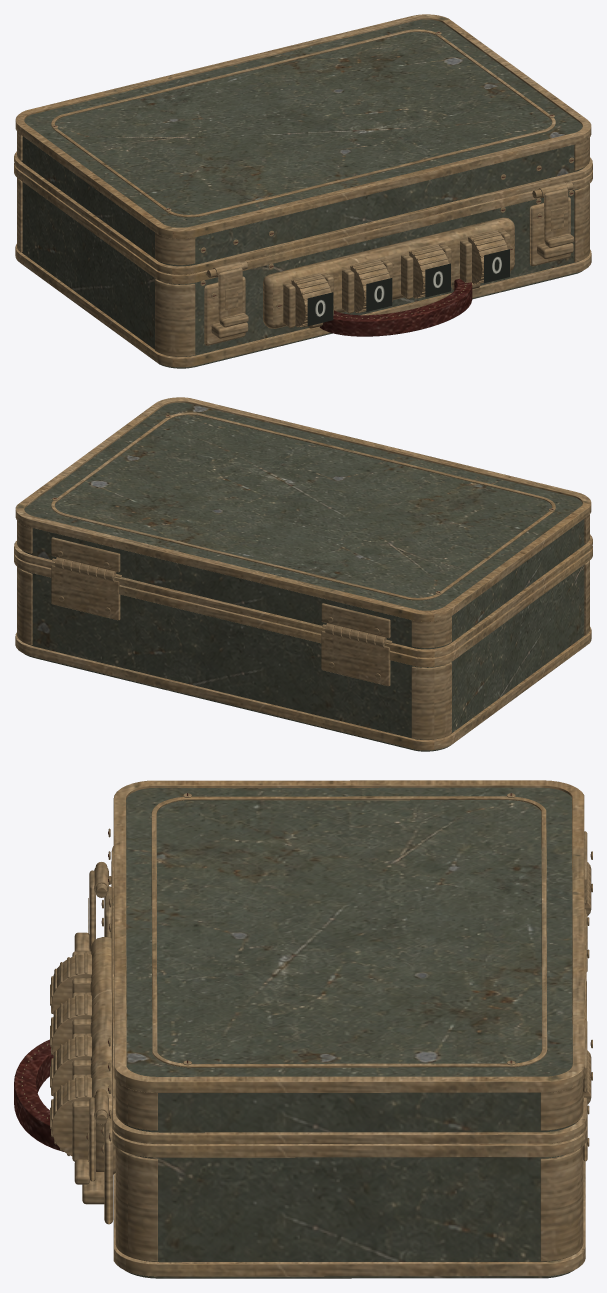
The model's file is briefcase.glb.
The picture shows the model from 3 angles, top to bottom: view 1: azimuth 30°, elevation 25°; view 2: azimuth 150°, elevation 25°; view 3: azimuth 270°, elevation 25°; orthographic projection. The views are drawn at different scales.
Visible parts, largest first — view 1: LidStatic, BodyStatic_Hardware, LidStatic_Hardware, BodyStatic, HandlePivot, LatchPivot_L, LatchPivot_R, Wheel_2, Wheel_0, Wheel_1, Wheel_3, NumberDisplay_0 (+3 smaller); view 2: LidStatic, BodyStatic, LidStatic_Hardware, BodyStatic_Hardware; view 3: LidStatic, BodyStatic, LidStatic_Hardware, BodyStatic_Hardware, HandlePivot, Wheel_3, Wheel_1, Wheel_2, Wheel_0, LatchPivot_R, LatchPivot_L.
Boxes of the visible parts, x1,y1,x2,y2 form: LidStatic: (21, 19, 584, 266); BodyStatic_Hardware: (14, 163, 592, 367); LidStatic_Hardware: (14, 14, 592, 274); BodyStatic: (22, 182, 582, 368); HandlePivot: (320, 278, 472, 336); LatchPivot_L: (213, 261, 248, 327); LatchPivot_R: (539, 182, 573, 247); Wheel_2: (409, 244, 451, 298); Wheel_0: (291, 273, 333, 327); Wheel_1: (350, 259, 390, 312); Wheel_3: (468, 230, 508, 284); NumberDisplay_0: (307, 292, 333, 326); LidStatic: (22, 402, 585, 649); BodyStatic: (24, 565, 584, 751); LidStatic_Hardware: (14, 397, 592, 657); BodyStatic_Hardware: (14, 546, 592, 750); LidStatic: (122, 787, 577, 1132); BodyStatic: (125, 1154, 573, 1278); LidStatic_Hardware: (108, 780, 592, 1143); BodyStatic_Hardware: (72, 861, 591, 1276); HandlePivot: (14, 1039, 63, 1151); Wheel_3: (50, 1076, 91, 1155); Wheel_1: (50, 994, 91, 1056); Wheel_2: (50, 1035, 91, 1097); Wheel_0: (50, 953, 91, 1015); LatchPivot_R: (74, 1091, 108, 1184); LatchPivot_L: (74, 864, 108, 951).
Bounding box in the file's own units: 0.977 × 0.306 × 0.7872.
5 materials, 5 textured.
